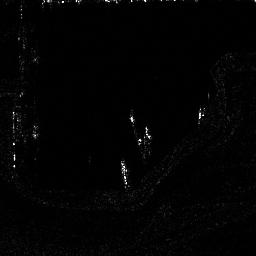ship: (120, 159, 129, 188)
